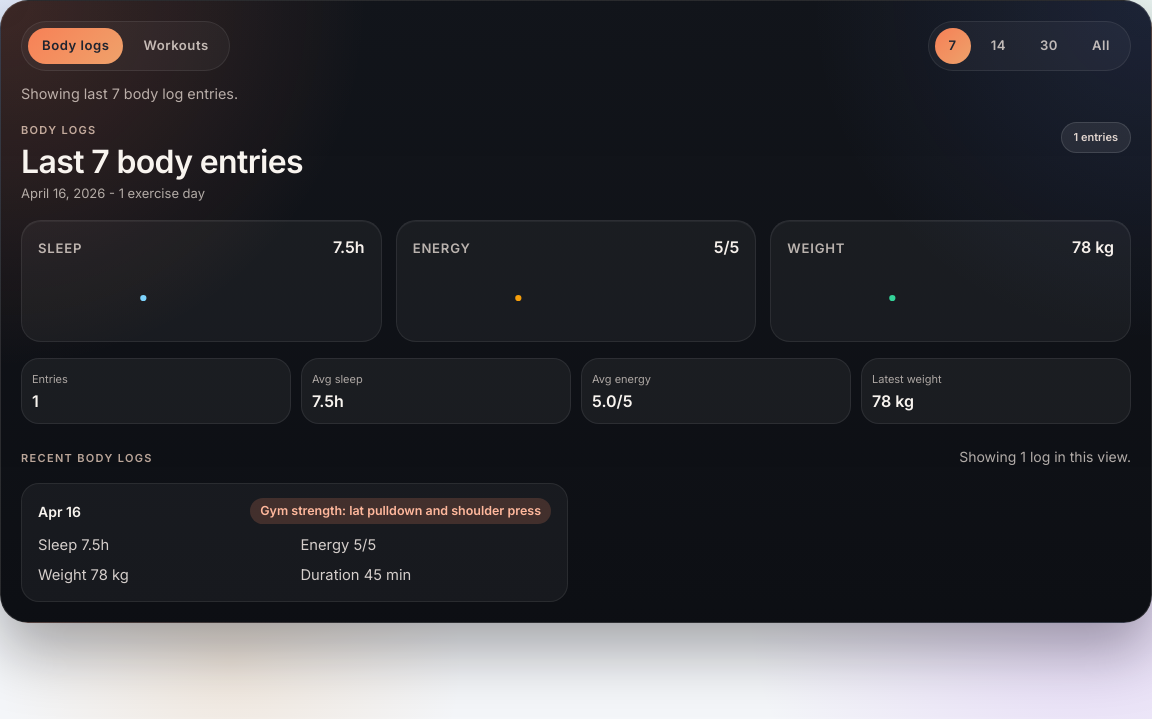
LatestWorkoutVisualizationCard › falls back to body-log exercise entries in the workouts tab
Click the button with test id "mode-workouts" at (176, 46), box x1=130 y1=28 x2=223 y2=64
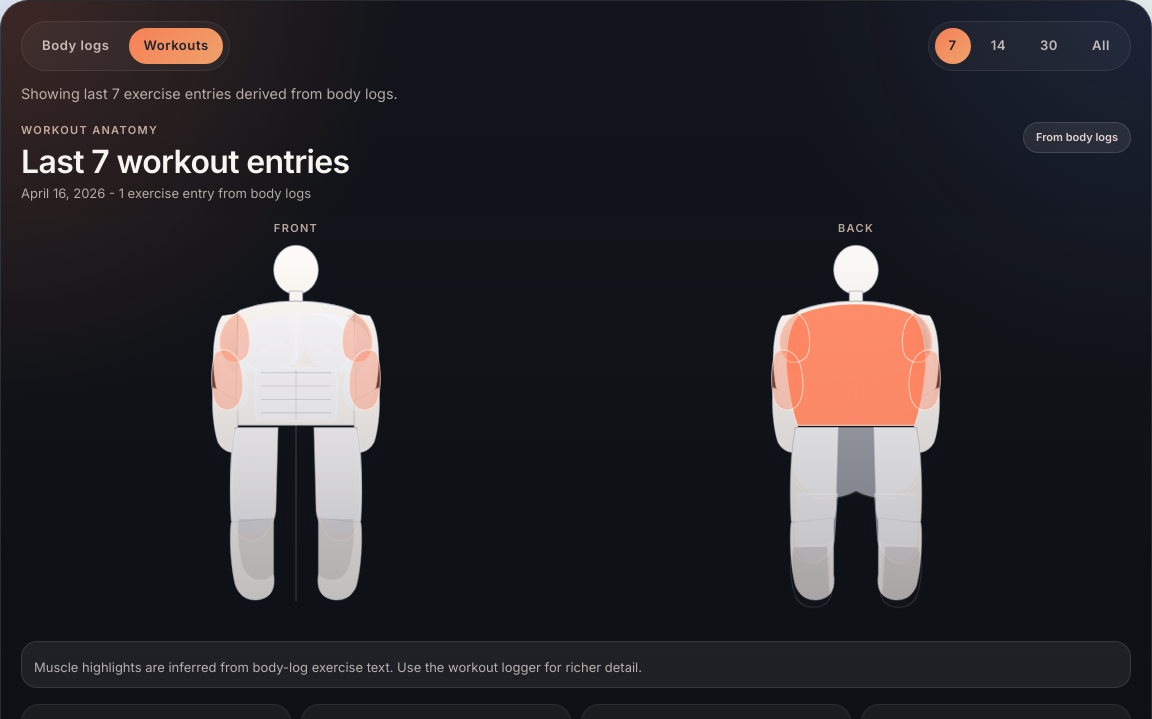
expect the text "From body logs" is shown: met, box x1=1023 y1=122 x2=1131 y2=153
expect the heading "Last 7 workout entries" is shown: met, box x1=21 y1=145 x2=349 y2=178
expect the text "Showing last 7 exercise entries derived from body logs." is shown: met, box x1=21 y1=85 x2=398 y2=102
